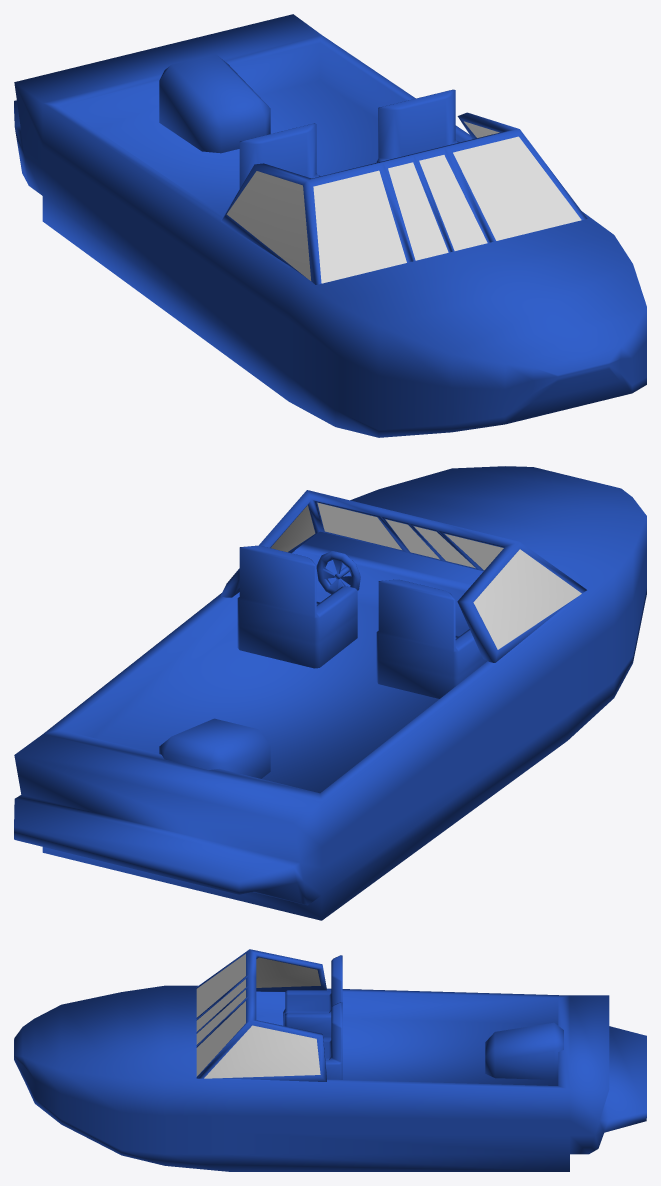
File: boat.obj
The picture shows the model from 3 angles, top to bottom: view 1: azimuth 30°, elevation 25°; view 2: azimuth 150°, elevation 25°; view 3: azimuth 270°, elevation 25°; orthographic projection. The views are drawn at different scales.
Visible parts, largest first — view 1: Boat_Cube_Material, Boat_Cube_Material.001; view 2: Boat_Cube_Material, Boat_Cube_Material.001; view 3: Boat_Cube_Material, Boat_Cube_Material.001.
Part boxes in pixels (x1,y1,x2,y2): Boat_Cube_Material: [14, 14, 646, 437]; Boat_Cube_Material.001: [227, 121, 581, 283]; Boat_Cube_Material: [14, 466, 646, 920]; Boat_Cube_Material.001: [271, 502, 581, 649]; Boat_Cube_Material: [14, 949, 646, 1171]; Boat_Cube_Material.001: [196, 954, 320, 1078].
Bounding box in the file's own units: 2 × 1.38 × 5.67.
